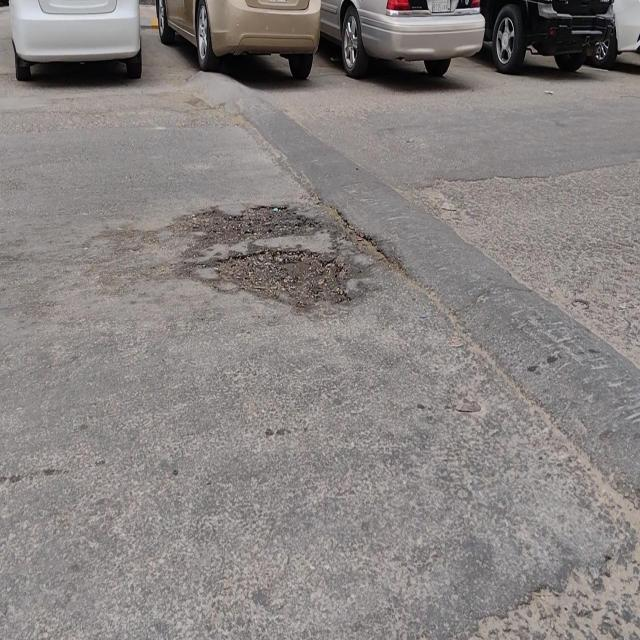Pothole: (212, 253, 352, 312), (193, 206, 319, 254)
